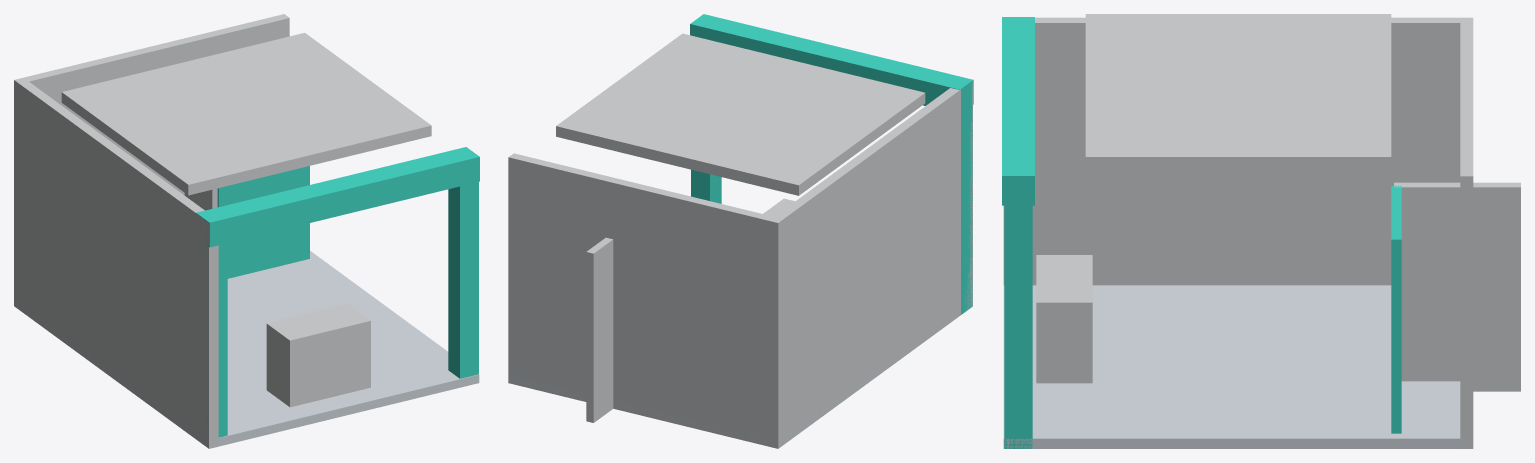
3 renders of one model, left to right at view 1: azimuth 30°, elevation 25°; view 2: azimuth 150°, elevation 25°; view 3: azimuth 270°, elevation 25°, orthographic. The views are drawn at different scales.
Parts seen in each view (by area): view 1: Exhibition Booth Concept; view 2: Exhibition Booth Concept; view 3: Exhibition Booth Concept.
Part boxes in pixels (x1,y1,x2,y2): Exhibition Booth Concept: (14,14,479,448); Exhibition Booth Concept: (508,14,973,448); Exhibition Booth Concept: (1002,14,1520,448).
Bounding box in the file's own units: 4 × 3.34 × 5.52.
